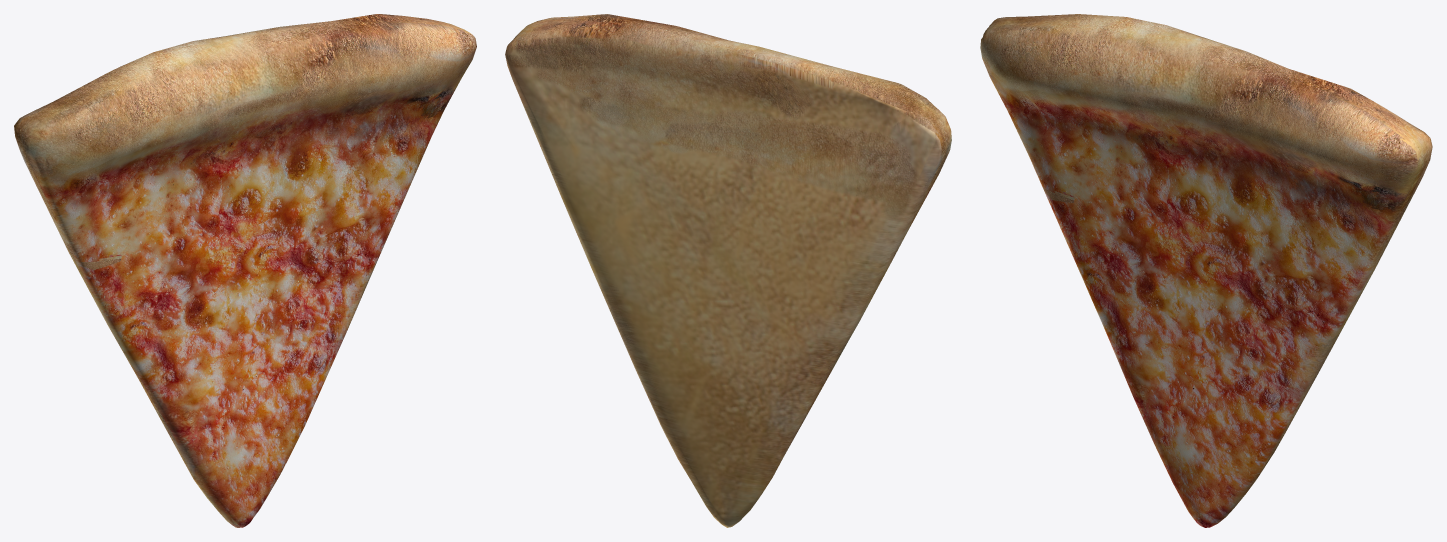
The model's file is Pizza.fbx.
The picture shows the model from 3 angles, left to right: view 1: azimuth 30°, elevation 25°; view 2: azimuth 150°, elevation 25°; view 3: azimuth 330°, elevation 25°; orthographic projection. The views are drawn at different scales.
Visible parts, largest first — view 1: Pizza; view 2: Pizza; view 3: Pizza.
Boxes of the visible parts, box(x1,y1,x2,y2) form: Pizza: box(14, 14, 476, 527); Pizza: box(505, 14, 951, 527); Pizza: box(980, 14, 1432, 527).
Size of the model in its own units: 187 by 198 by 28.29.
